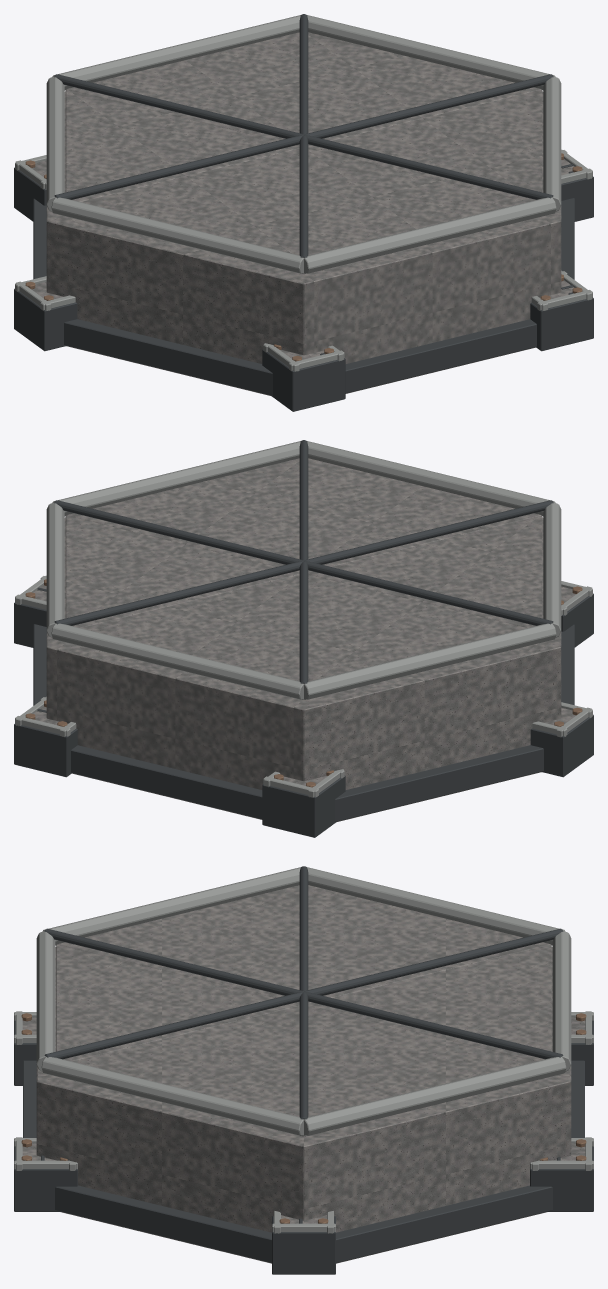
The model's file is outpost-pod.glb.
3 renders of one model, top to bottom at view 1: azimuth 30°, elevation 25°; view 2: azimuth 150°, elevation 25°; view 3: azimuth 270°, elevation 25°, orthographic. The views are drawn at different scales.
Visible parts, largest first — view 1: outpost-pod • editable solid geometry; view 2: outpost-pod • editable solid geometry; view 3: outpost-pod • editable solid geometry.
Boxes of the visible parts, x1=… form: outpost-pod • editable solid geometry: x1=14, y1=14, x2=593, y2=411; outpost-pod • editable solid geometry: x1=14, y1=440, x2=593, y2=837; outpost-pod • editable solid geometry: x1=14, y1=866, x2=593, y2=1274.
Size of the model in its own units: 6.2 by 1.55 by 5.45.
Materials: 4 (1 with a texture image).
